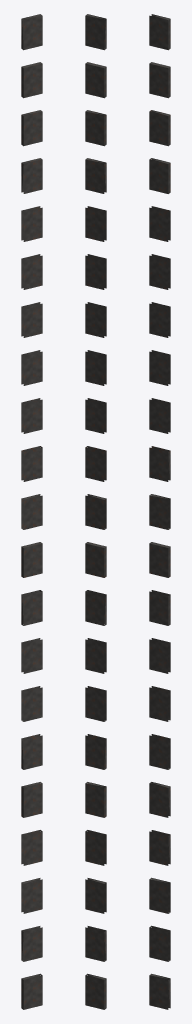
The model's file is Oracle_Chain_Hanging_LOD2.gltf.
The picture shows the model from 3 angles, left to right: view 1: azimuth 30°, elevation 25°; view 2: azimuth 150°, elevation 25°; view 3: azimuth 330°, elevation 25°; orthographic projection.
Parts seen in each view (by area): view 1: Oracle_Chain_Hanging_LOD2; view 2: Oracle_Chain_Hanging_LOD2; view 3: Oracle_Chain_Hanging_LOD2.
Boxes of the visible parts, x1,y1,x2,y2 form: Oracle_Chain_Hanging_LOD2: [21, 14, 42, 1009]; Oracle_Chain_Hanging_LOD2: [85, 14, 106, 1009]; Oracle_Chain_Hanging_LOD2: [149, 14, 170, 1009].
Bounding box in the file's own units: 0.4 × 19.8 × 0.08.
Materials: 1 (1 with a texture image).
